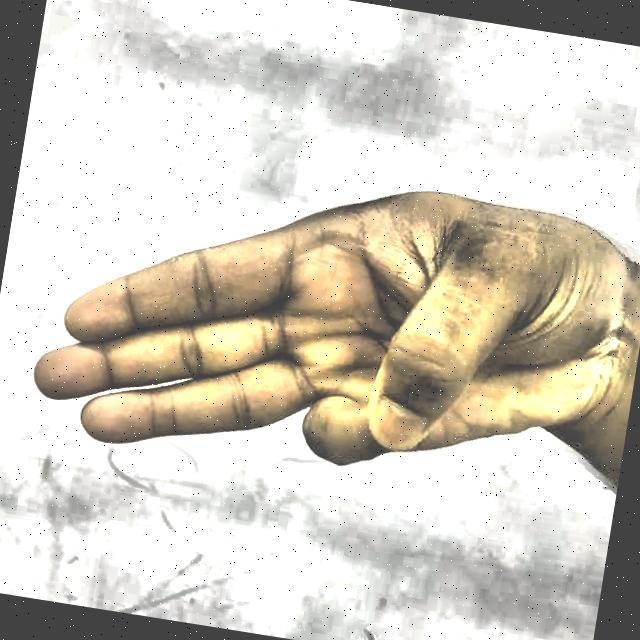Ma: (10, 114, 640, 549)
